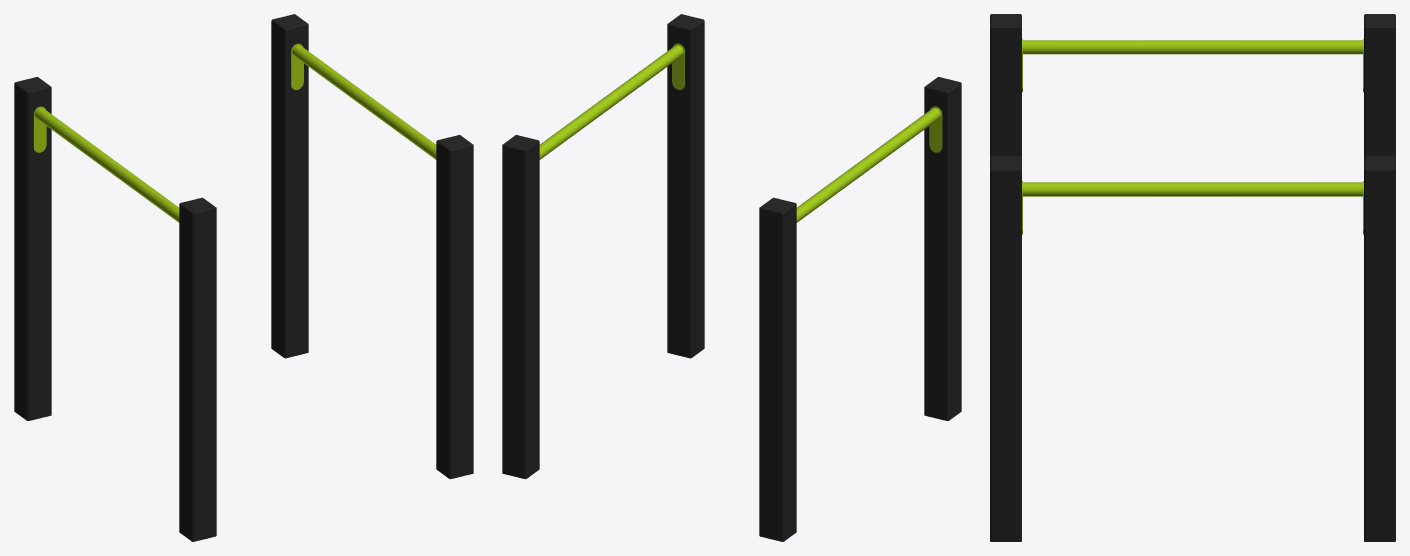
File: ogym01.obj
3 renders of one model, left to right at view 1: azimuth 30°, elevation 25°; view 2: azimuth 150°, elevation 25°; view 3: azimuth 270°, elevation 25°, orthographic. The views are drawn at different scales.
Parts seen in each view (by area): view 1: o_gym01; view 2: o_gym01; view 3: o_gym01.
Part boxes in pixels (x1=…): o_gym01: x1=14, y1=14, x2=473, y2=541; o_gym01: x1=502, y1=14, x2=961, y2=541; o_gym01: x1=990, y1=14, x2=1395, y2=541.
Bounding box in the file's own units: 98.5 × 110 × 108.
